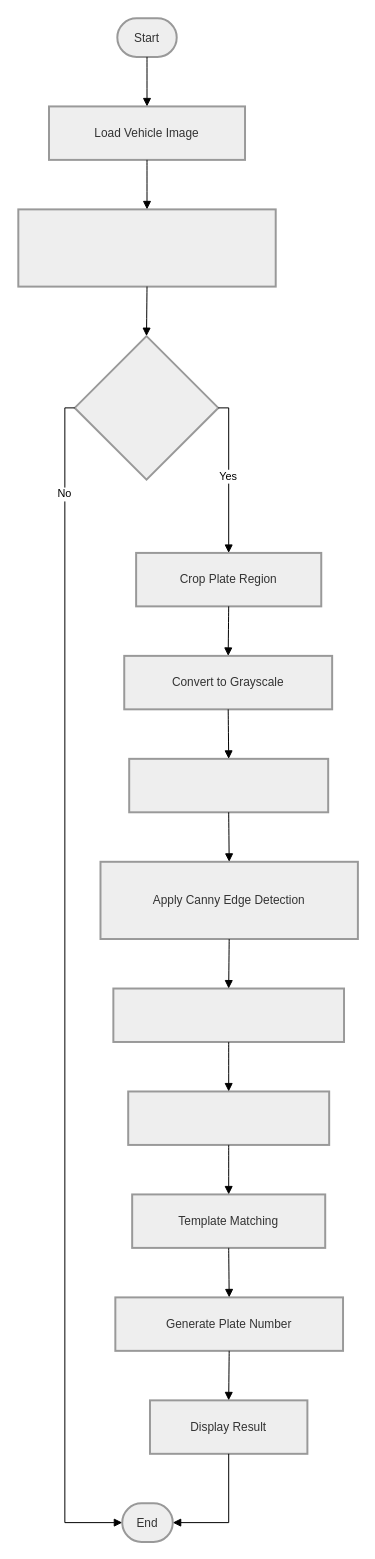
Image size: 375x1559. Some labels were removed from this diagram. Each missing label, with the box of its shape:
Apply Gaussian Blur: (128, 757, 329, 813)
Apply Otsu Thresholding: (112, 987, 345, 1042)
Detect License Plate Region: (17, 208, 276, 287)
Plate Found?: (73, 335, 219, 480)
Segment Characters: (127, 1090, 330, 1145)
